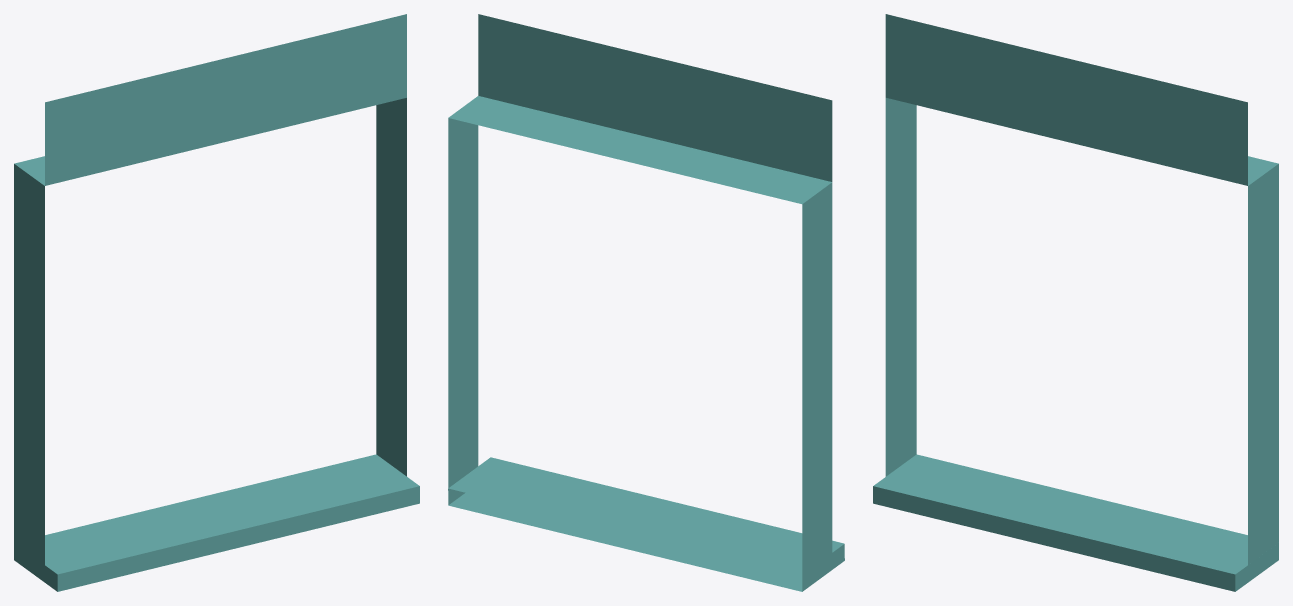
Rendered from Itr_Wall_Color_08(for_window).FBX.
3 views of the same model, side by side, from view 1: azimuth 30°, elevation 25°; view 2: azimuth 150°, elevation 25°; view 3: azimuth 330°, elevation 25° (orthographic). The views are drawn at different scales.
Parts seen in each view (by area): view 1: Itr_Wall_Color_08(for_window); view 2: Itr_Wall_Color_08(for_window); view 3: Itr_Wall_Color_08(for_window).
Boxes of the visible parts, x1,y1,x2,y2 form: Itr_Wall_Color_08(for_window): (14,14,419,591); Itr_Wall_Color_08(for_window): (448,14,844,591); Itr_Wall_Color_08(for_window): (873,14,1278,591).
Size of the model in its own units: 65.28 by 82.71 by 13.59.
